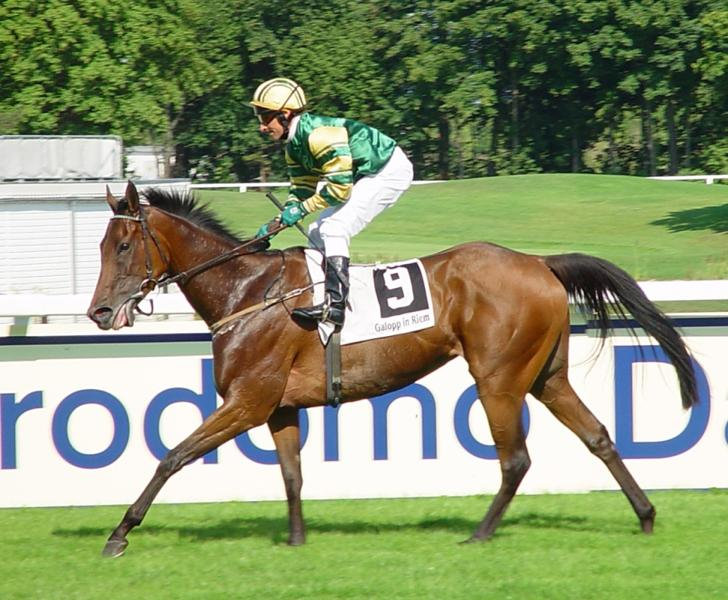person: (249, 79, 415, 334)
